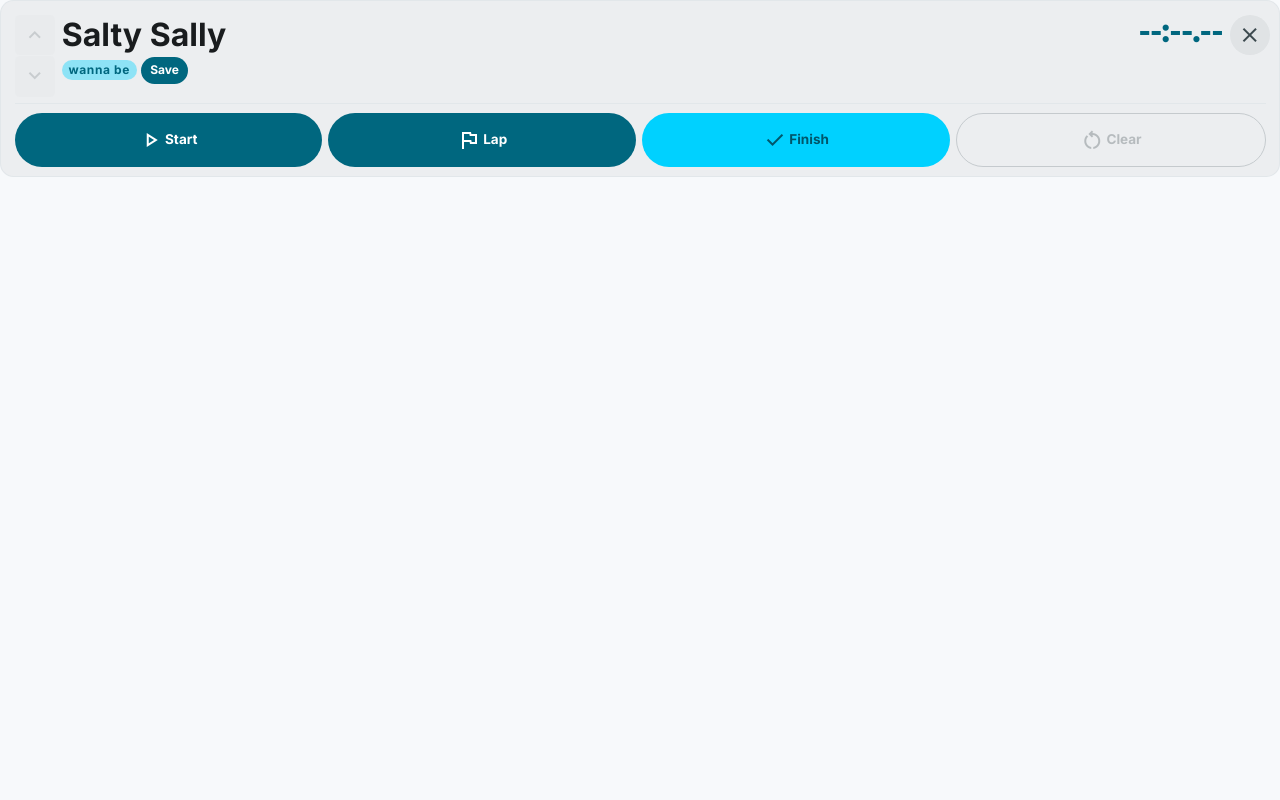
it: ActiveSwimmerRow swimmer modal flows › blocks re-pointing a temp swimmer to an already-allocated real swimmer
This screenshot has width=1280, height=800.
Step 1. Click the button "Salty Sally" → (144, 34), box top-left (62, 14), bottom-right (1129, 54)
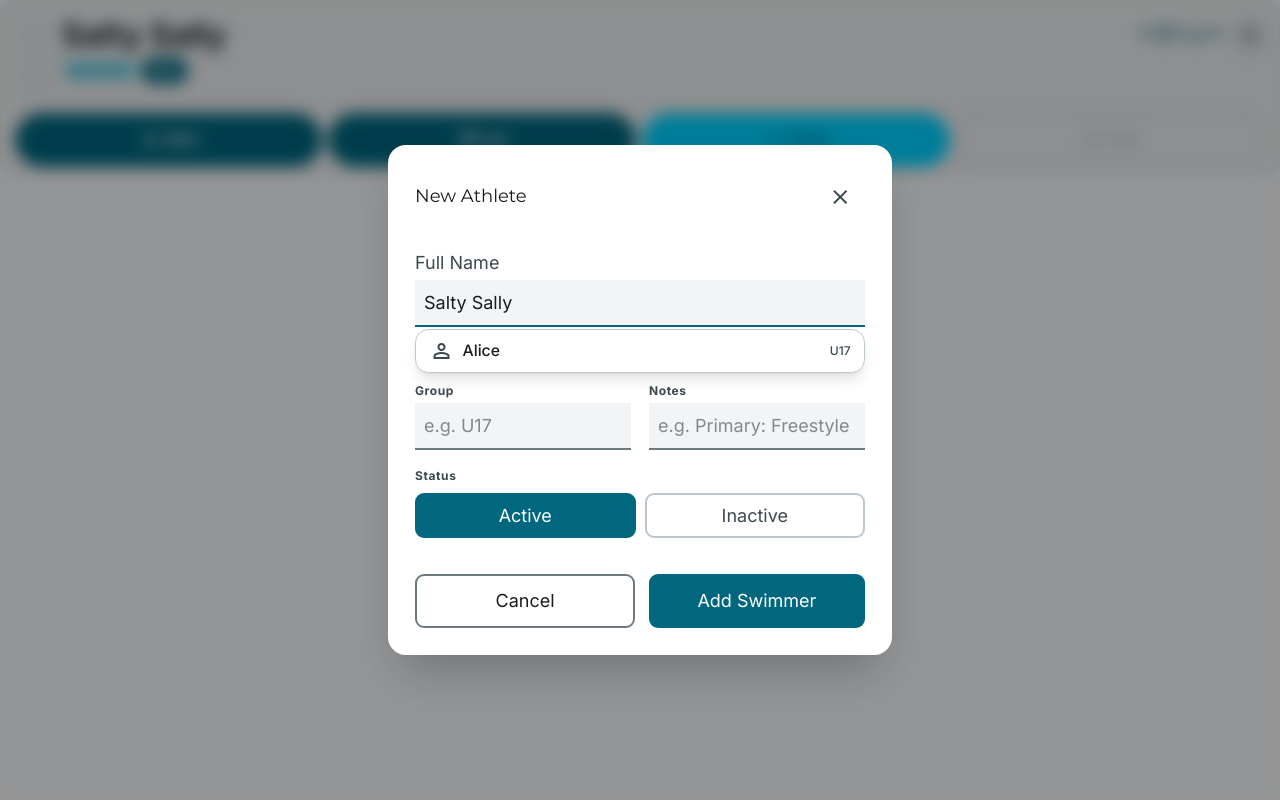
Check: the heading "New Athlete" is shown, box top-left (415, 183), bottom-right (527, 210)
Step 2. Replace the text in the field with placeholder "e.g. Alex Rivera" with "Ali" → (640, 304), box top-left (415, 280), bottom-right (865, 327)
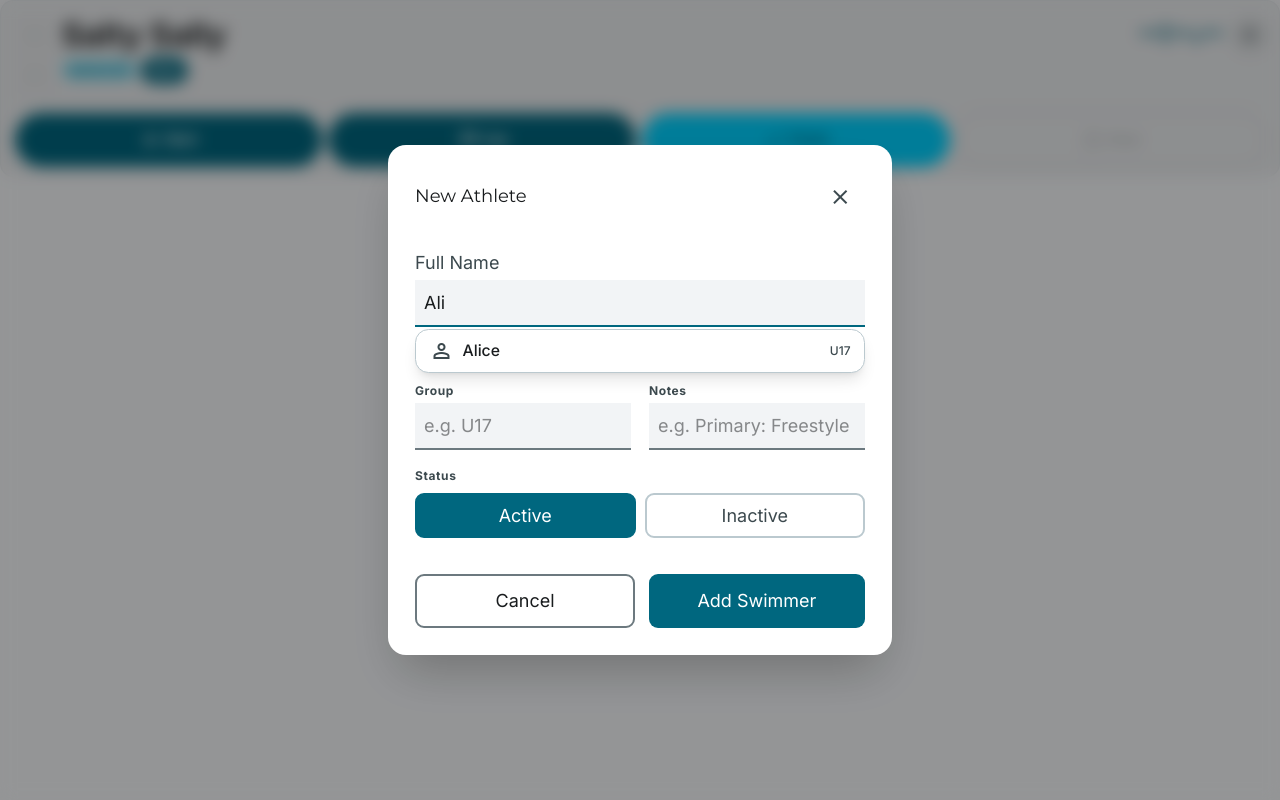
Step 3. Click the text "Alice" → (481, 351), box top-left (462, 340), bottom-right (500, 362)
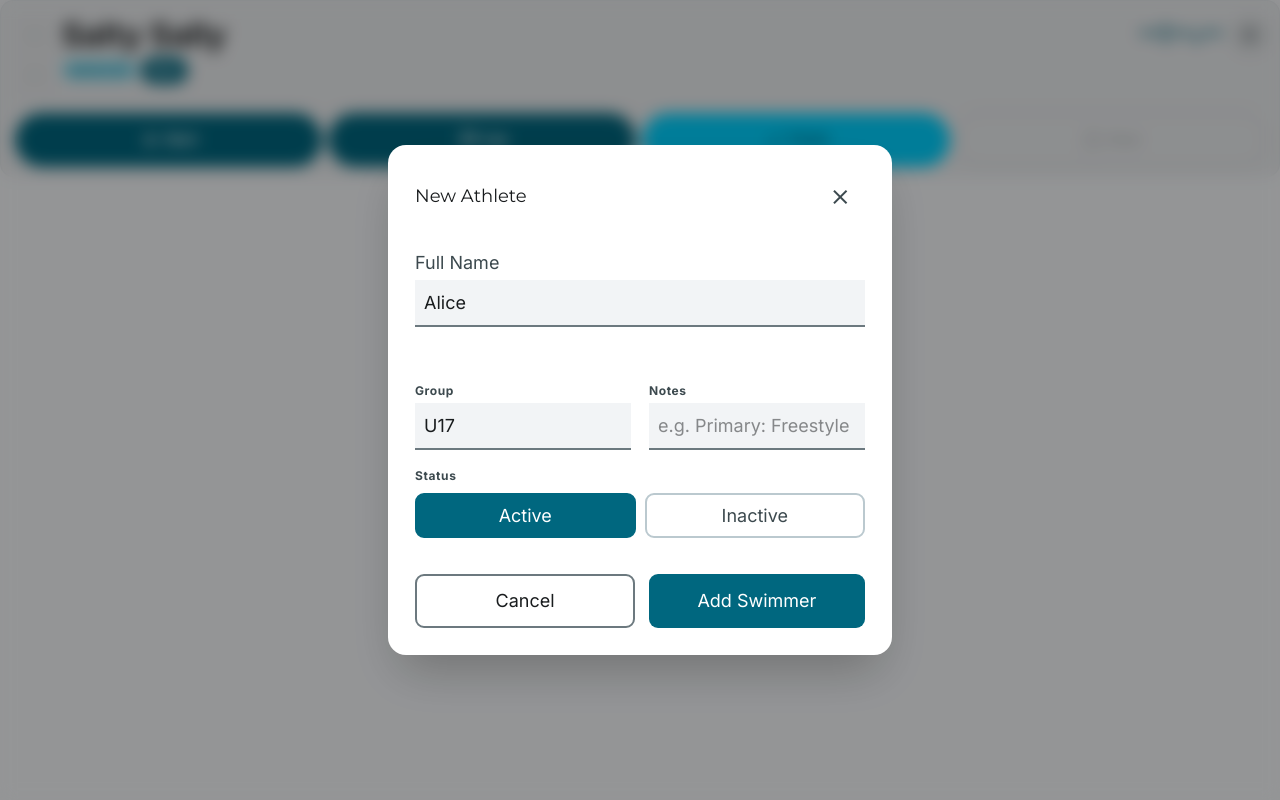
Step 4. Click the button "Add Swimmer" → (757, 601), box top-left (649, 574), bottom-right (865, 628)
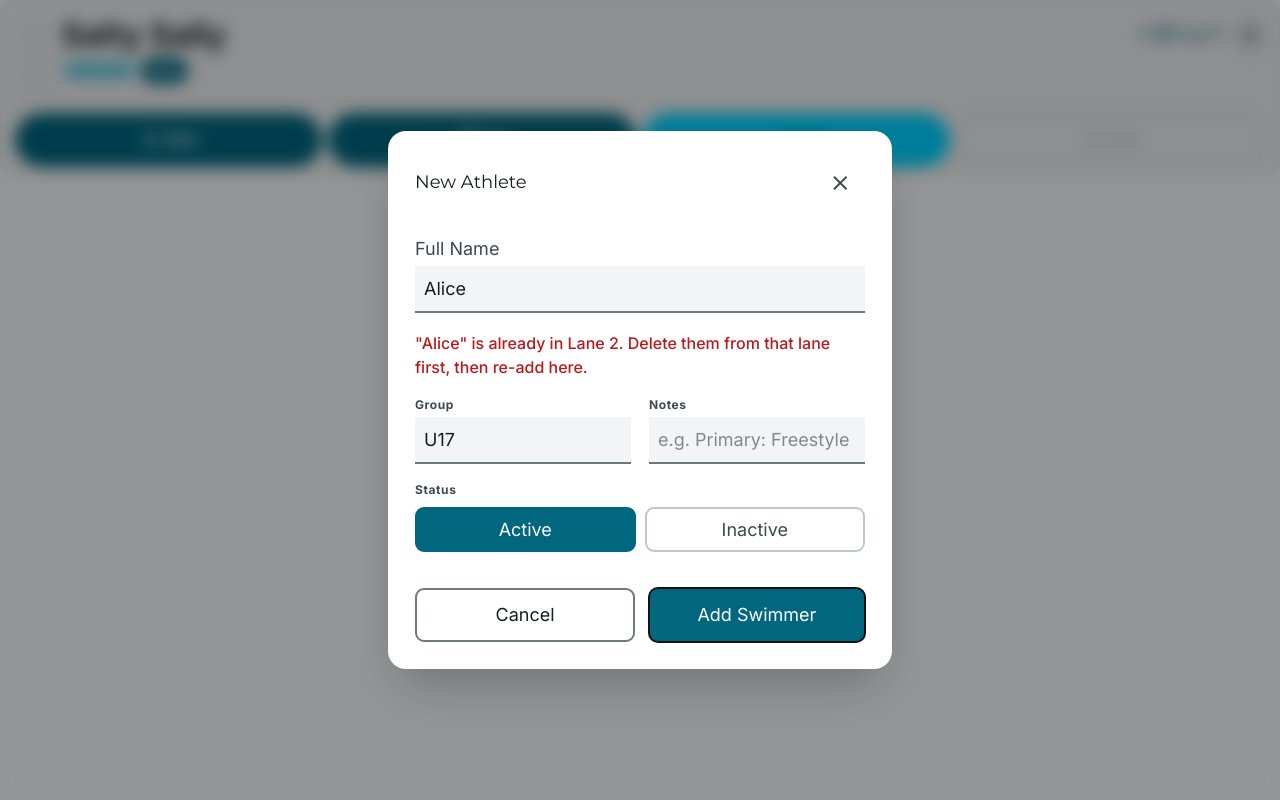
Check: the text with test id "swimmer-form-error" shows "already in Lane 2", box top-left (415, 333), bottom-right (830, 377)
